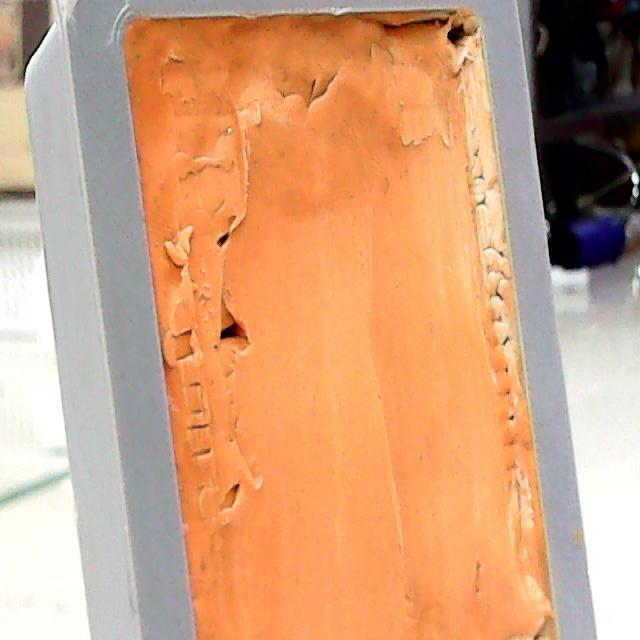block: (23, 1, 599, 635)
